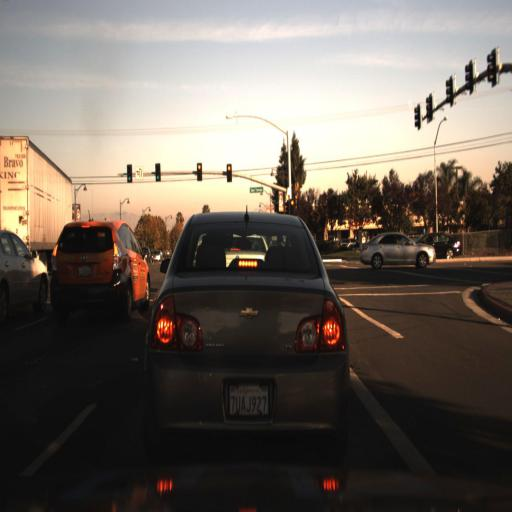car: (148, 214, 346, 458), (50, 216, 151, 324), (0, 226, 51, 324), (360, 226, 439, 275), (359, 223, 434, 274), (421, 228, 464, 261)
trafficLight-GreenLeft: (152, 160, 162, 186), (125, 159, 135, 184)
trafficLight-Red: (224, 162, 234, 186), (196, 158, 205, 182), (288, 196, 297, 220)
truck: (0, 109, 73, 275), (0, 136, 80, 250)
